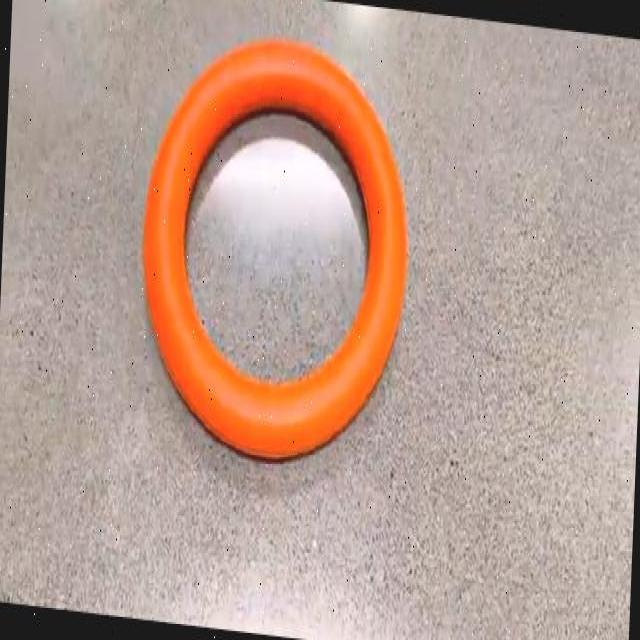note: (143, 38, 407, 457)
